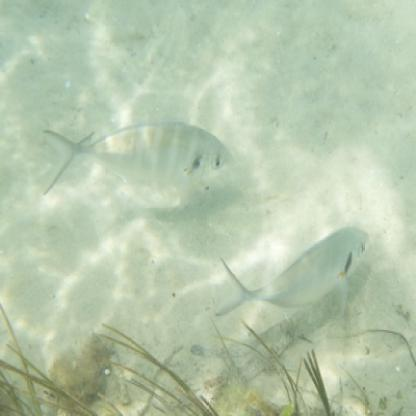jack: (213, 220, 388, 320), (37, 123, 232, 203)
